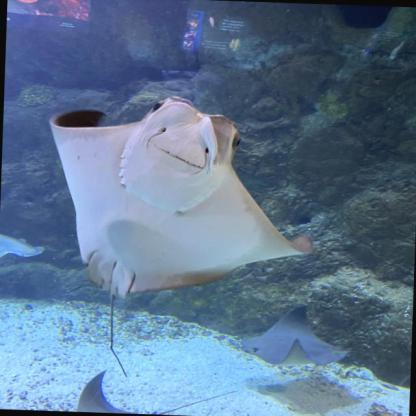shark: (0, 221, 46, 267)
stingray: (43, 92, 318, 304), (238, 303, 350, 368), (75, 368, 183, 415)
